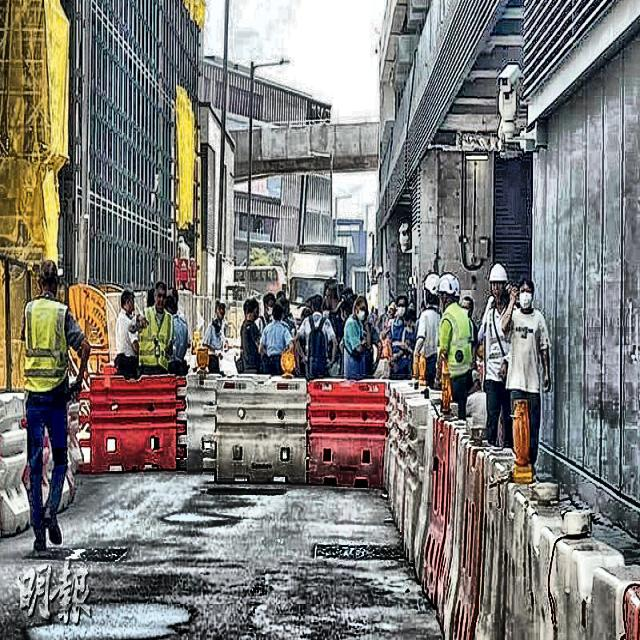safety_helmet: (437, 264, 464, 298), (486, 260, 511, 289)
safety_jacket: (20, 295, 74, 398), (437, 301, 477, 383), (136, 303, 176, 375)
